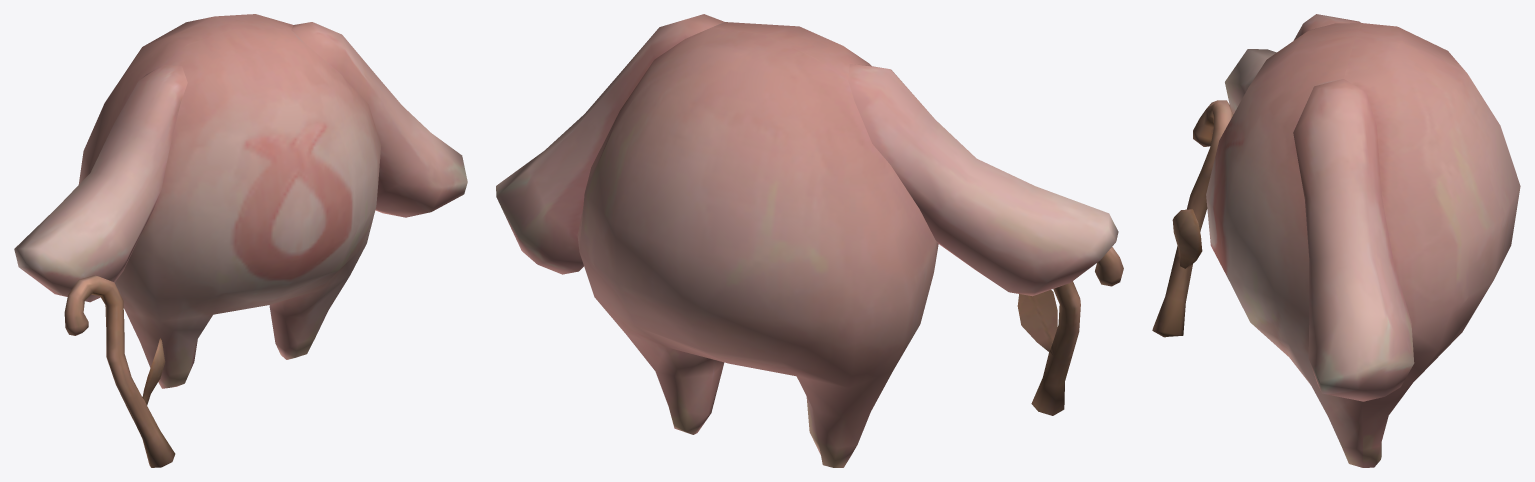
Rendered from Homeworld_Ani_Exterior_Common_Decoration_Prop_WoodAranaraBodyC4_04_Vo.fbx.
The picture shows the model from 3 angles, left to right: view 1: azimuth 30°, elevation 25°; view 2: azimuth 150°, elevation 25°; view 3: azimuth 270°, elevation 25°; orthographic projection. The views are drawn at different scales.
Parts seen in each view (by area): view 1: Homeworld_Ani_Exterior_Common_Decoration_Prop_WoodAranaraBod; view 2: Homeworld_Ani_Exterior_Common_Decoration_Prop_WoodAranaraBod; view 3: Homeworld_Ani_Exterior_Common_Decoration_Prop_WoodAranaraBod.
Boxes of the visible parts, box(x1,y1,x2,y2) form: Homeworld_Ani_Exterior_Common_Decoration_Prop_WoodAranaraBod: box(14, 14, 467, 467); Homeworld_Ani_Exterior_Common_Decoration_Prop_WoodAranaraBod: box(496, 14, 1123, 467); Homeworld_Ani_Exterior_Common_Decoration_Prop_WoodAranaraBod: box(1152, 14, 1520, 467).
Size of the model in its own units: 0.6887 by 0.4766 by 0.4033.
